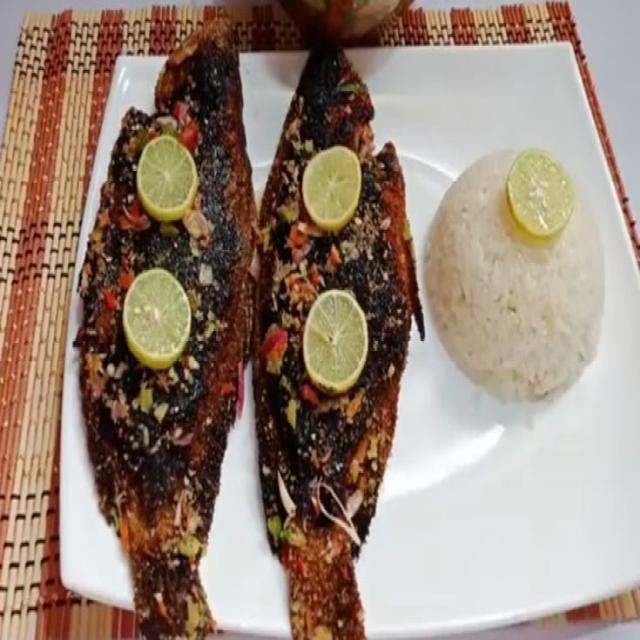Peixe: (73, 11, 260, 638), (251, 37, 425, 639)
